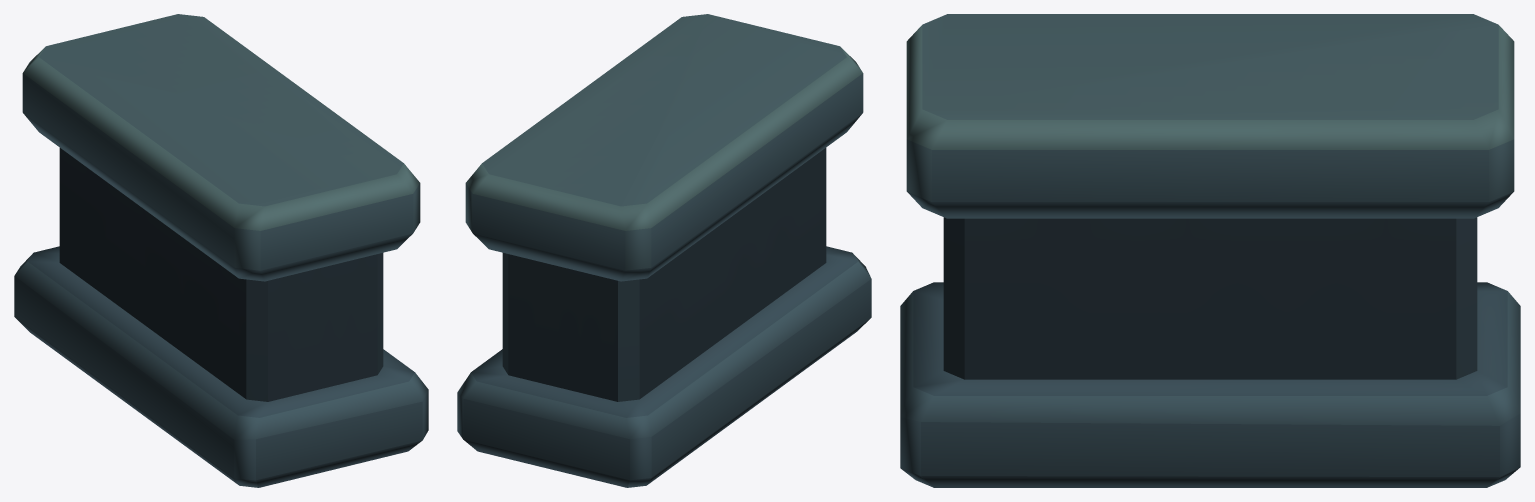
The model's file is pillar_narrow_small_1.fbx.
3 views of the same model, side by side, from view 1: azimuth 30°, elevation 25°; view 2: azimuth 150°, elevation 25°; view 3: azimuth 270°, elevation 25° (orthographic). The views are drawn at different scales.
Visible parts, largest first — view 1: pillar_narrow_small_1; view 2: pillar_narrow_small_1; view 3: pillar_narrow_small_1.
Boxes of the visible parts, box(x1,y1,x2,y2) form: pillar_narrow_small_1: box(14, 14, 428, 487); pillar_narrow_small_1: box(457, 14, 871, 487); pillar_narrow_small_1: box(900, 14, 1520, 487).
Bounding box in the file's own units: 80.07 × 109 × 168.
